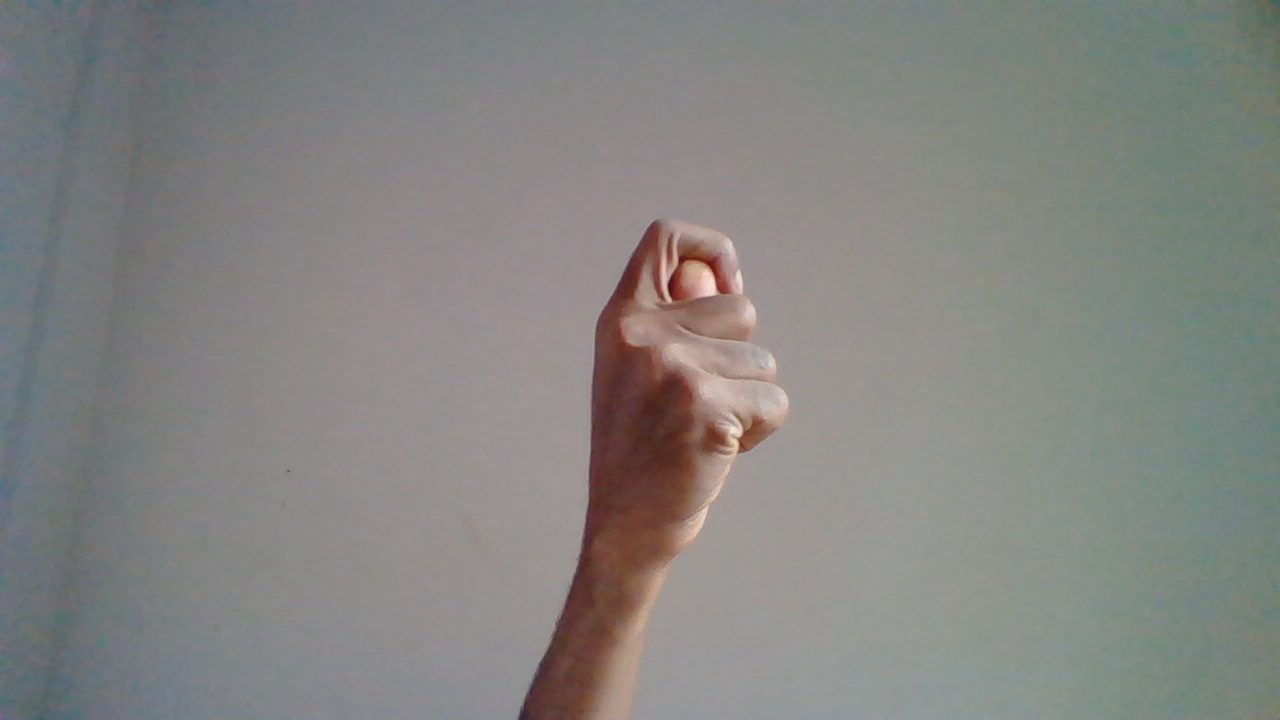che: (586, 215, 788, 649)
